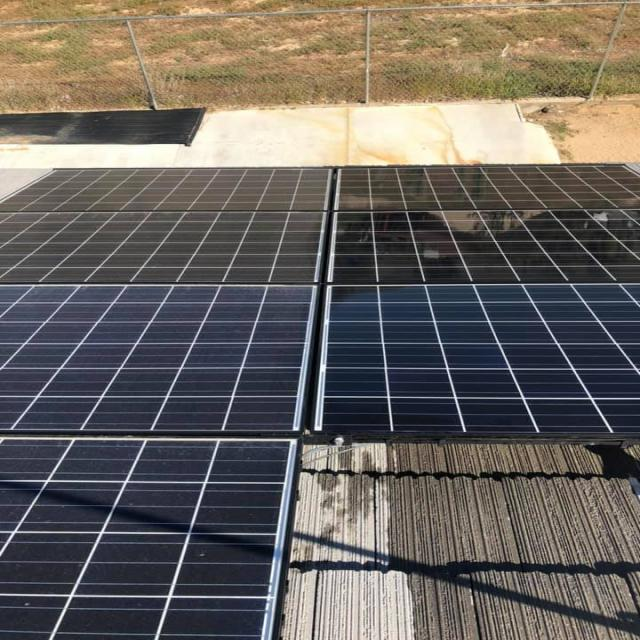clean-solar-panel: (3, 165, 638, 285)
dust-solar-panel: (3, 285, 315, 640), (320, 285, 638, 442)
